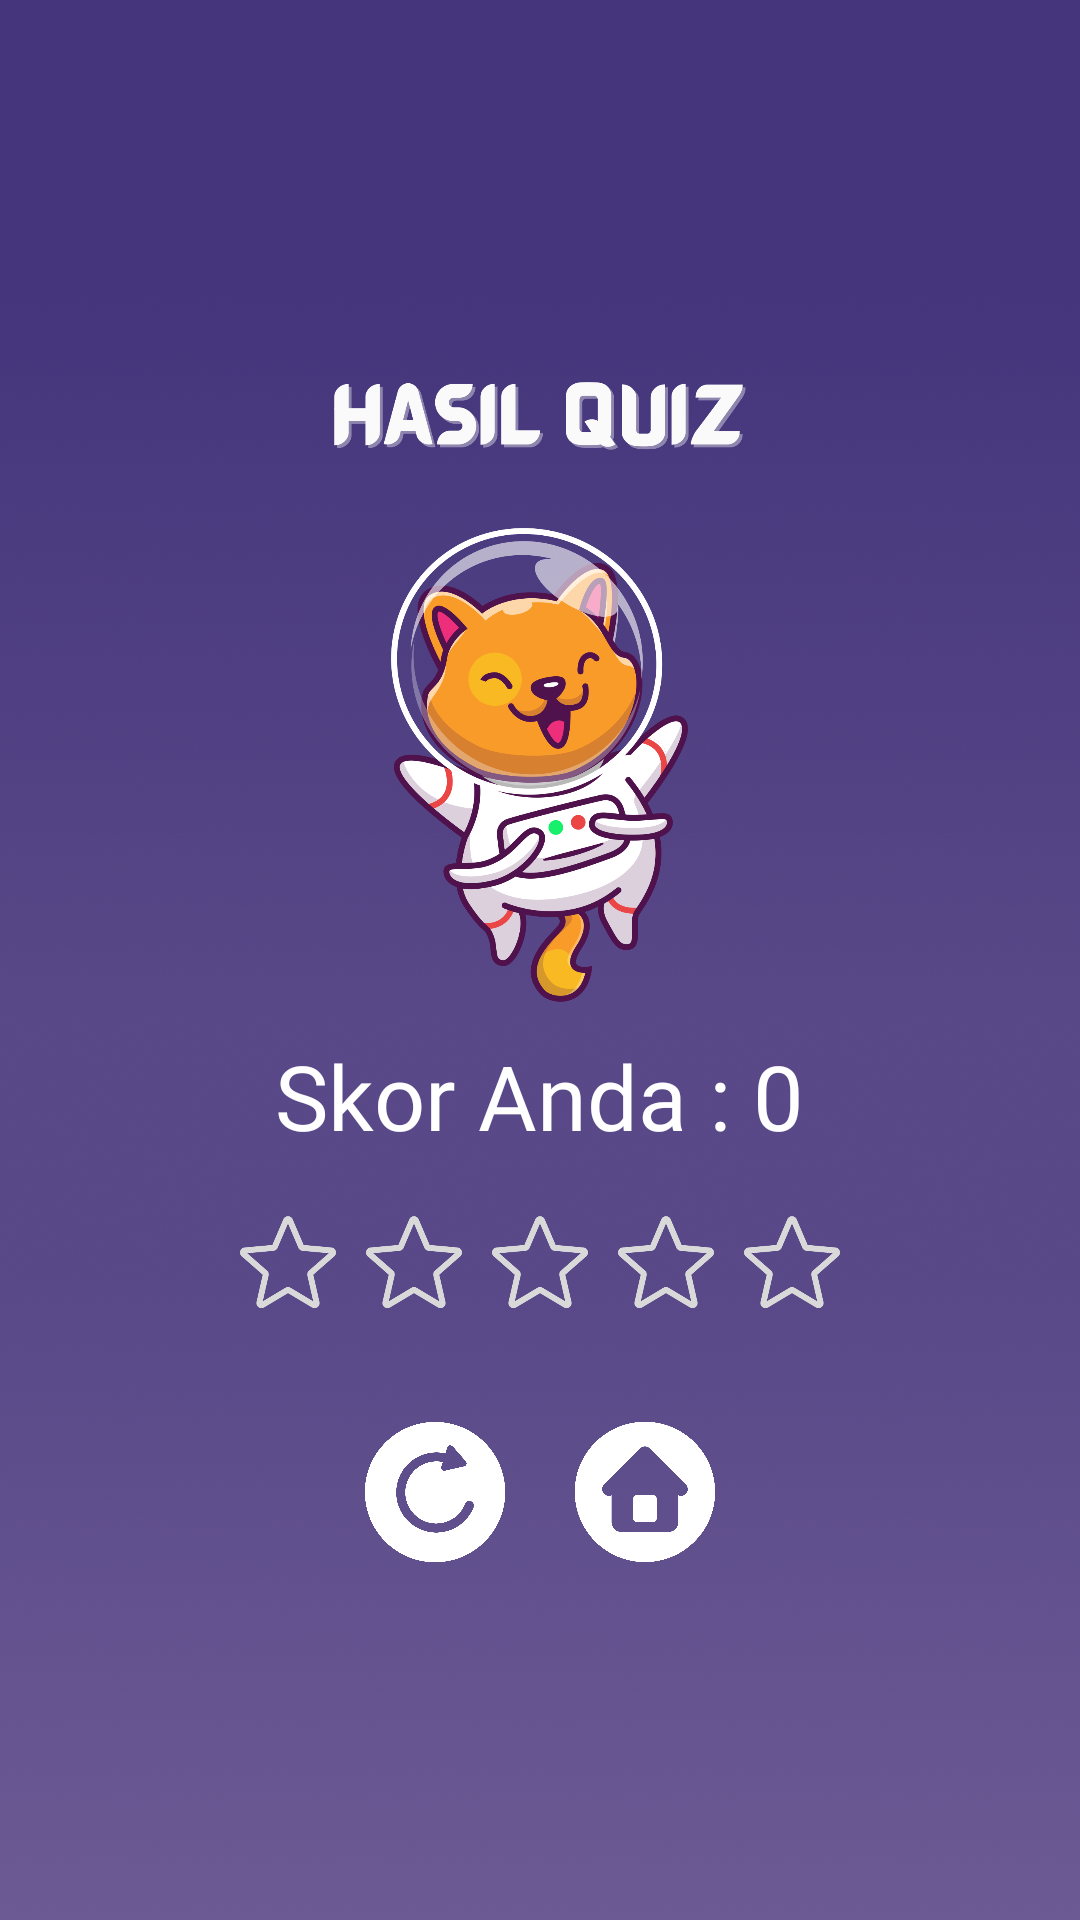

Where to tap for icons on this 1080px×1920px app screen, as point (x, y):
home: point (645, 1492)
replay: point (435, 1492)
star off: point (288, 1262), point (414, 1262), point (540, 1262), point (666, 1262), point (792, 1262)
